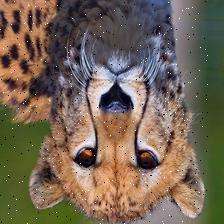Cheetha: (0, 0, 208, 224)
